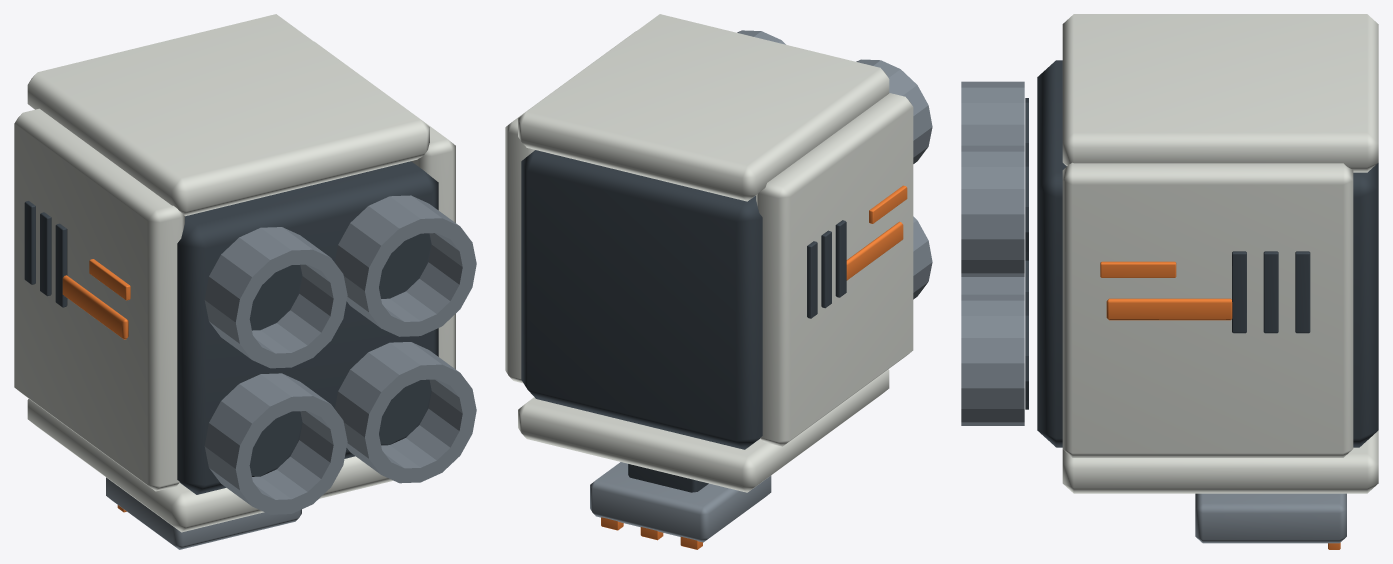
Rendered from VXAUX_MISSILE_POD_v002.fbx.
The picture shows the model from 3 angles, left to right: view 1: azimuth 30°, elevation 25°; view 2: azimuth 150°, elevation 25°; view 3: azimuth 270°, elevation 25°; orthographic projection. The views are drawn at different scales.
Parts seen in each view (by area): view 1: Top armor, Split cheek armor, Graphite tube housing, Recessed launch tube, Recessed launch tube.001, Recessed launch tube.003, Recessed launch tube.002, Bottom armor, Universal mounting shoe, Split cheek armor.001, Deep tube back.003, Deep tube back (+7 smaller); view 2: Graphite tube housing, Top armor, Split cheek armor, Bottom armor, Universal mounting shoe, Split cheek armor.001, Recessed launch tube.001, Orange cheek stripe, Recessed launch tube, Mount neck, Pod service vent, Pod service vent.002 (+2 smaller); view 3: Split cheek armor.001, Top armor, Graphite tube housing, Bottom armor, Recessed launch tube.002, Recessed launch tube.003, Universal mounting shoe, Recessed launch tube.001, Orange cheek stripe.001, Pod service vent.004, Pod service vent.005, Armor stripe.001 (+2 smaller).
Boxes of the visible parts, left/top/right/bottom form: Top armor: left=27, top=14, right=429, bottom=216; Split cheek armor: left=14, top=108, right=184, bottom=491; Graphite tube housing: left=177, top=161, right=438, bottom=494; Recessed launch tube: left=204, top=373, right=347, bottom=514; Recessed launch tube.001: left=204, top=227, right=347, bottom=368; Recessed launch tube.003: left=335, top=195, right=476, bottom=336; Recessed launch tube.002: left=335, top=342, right=476, bottom=483; Bottom armor: left=27, top=399, right=393, bottom=532; Universal mounting shoe: left=106, top=477, right=301, bottom=549; Split cheek armor.001: left=314, top=41, right=455, bottom=369; Deep tube back.003: left=379, top=233, right=431, bottom=298; Deep tube back: left=249, top=411, right=302, bottom=476; Graphite tube housing: left=521, top=150, right=762, bottom=449; Top armor: left=518, top=14, right=889, bottom=201; Split cheek armor: left=756, top=93, right=913, bottom=446; Bottom armor: left=518, top=369, right=889, bottom=492; Universal mounting shoe: left=590, top=462, right=771, bottom=542; Split cheek armor.001: left=505, top=31, right=635, bottom=382; Recessed launch tube.001: left=856, top=59, right=932, bottom=163; Orange cheek stripe: left=846, top=221, right=903, bottom=280; Recessed launch tube: left=913, top=216, right=932, bottom=299; Mount neck: left=628, top=464, right=708, bottom=492; Pod service vent: left=835, top=220, right=846, bottom=297; Pod service vent.002: left=807, top=241, right=817, bottom=318; Split cheek armor.001: left=1062, top=162, right=1353, bottom=457; Top armor: left=1062, top=14, right=1378, bottom=172; Graphite tube housing: left=1037, top=60, right=1378, bottom=447; Bottom armor: left=1062, top=430, right=1378, bottom=493; Recessed launch tube.002: left=961, top=294, right=1024, bottom=425; Recessed launch tube.003: left=961, top=145, right=1024, bottom=276; Universal mounting shoe: left=1195, top=493, right=1346, bottom=543; Recessed launch tube.001: left=961, top=81, right=1024, bottom=145; Orange cheek stripe.001: left=1106, top=298, right=1232, bottom=320; Pod service vent.004: left=1263, top=251, right=1278, bottom=333; Pod service vent.005: left=1295, top=251, right=1310, bottom=333; Armor stripe.001: left=1100, top=261, right=1176, bottom=277.
Size of the model in its own units: 30.1 by 39.35 by 33.
